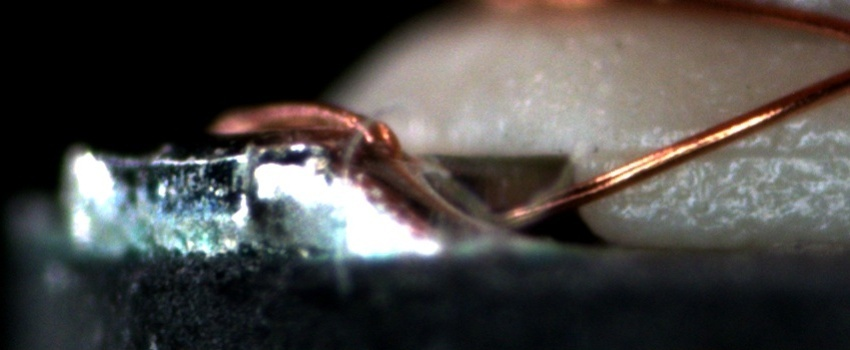DL: (604, 126, 849, 186)
TE: (193, 93, 409, 156)
